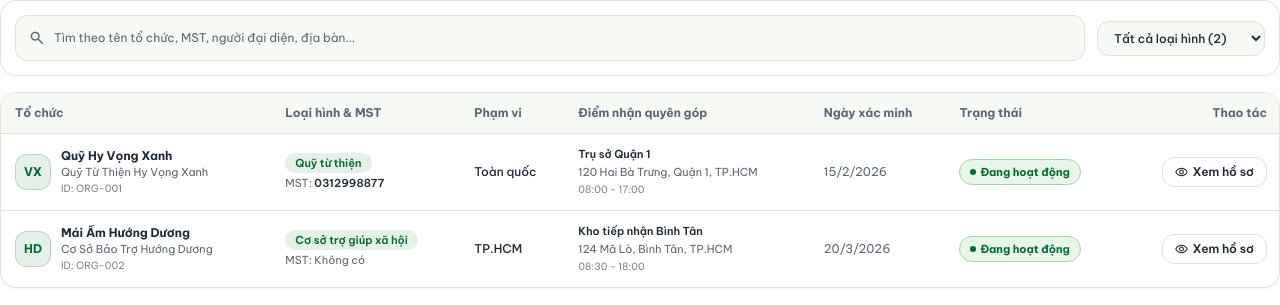
Test case: ExistingOrganizationsSection - Existing Organizations Tab › filters organizations by search keyword
Type "Hướng Dương" into the field with placeholder "Tìm theo tên tổ chức, MST, người đại diện, địa bàn..." at (563, 38), box [54,30,1072,46]
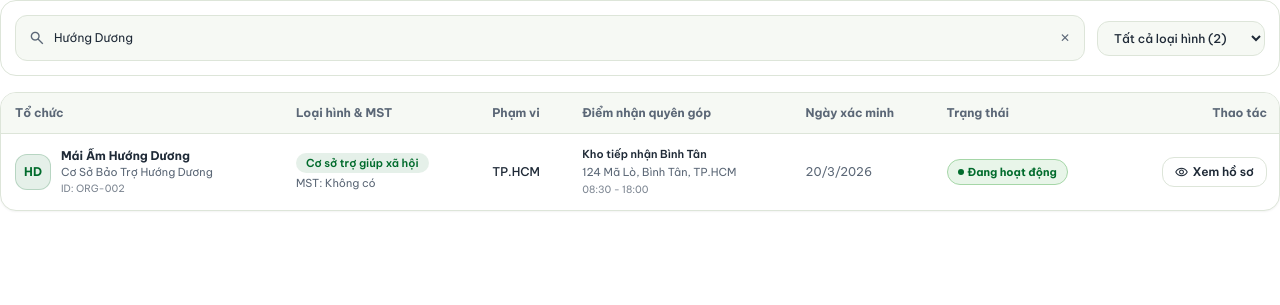
Check: the text "Mái Ấm Hướng Dương" is shown, box [61,148,190,162]
Check: the text "Quỹ Hy Vọng Xanh" is gone
